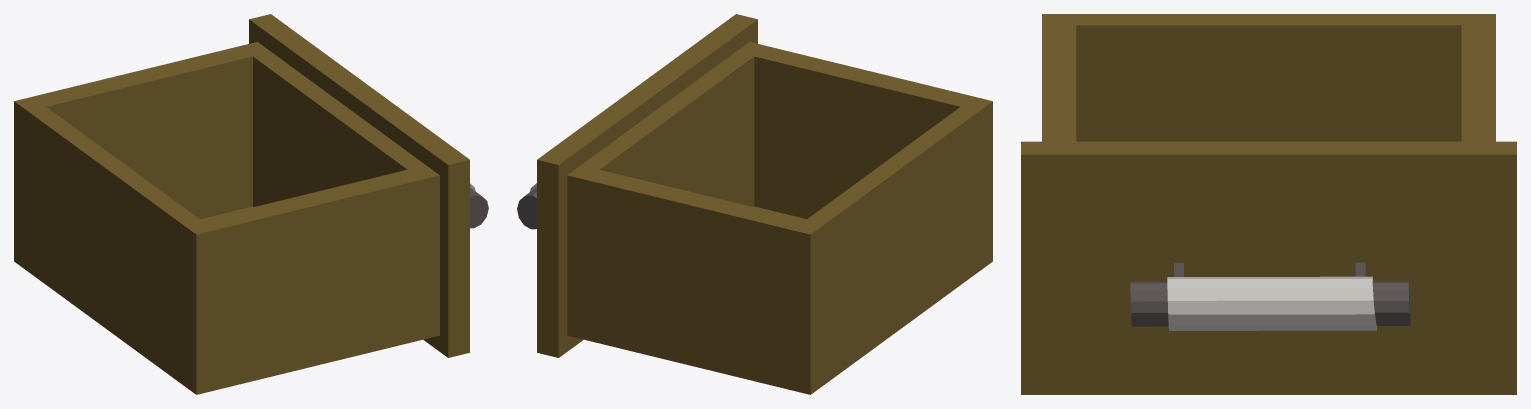
The model's file is Drawer.fbx.
3 renders of one model, left to right at view 1: azimuth 30°, elevation 25°; view 2: azimuth 150°, elevation 25°; view 3: azimuth 270°, elevation 25°, orthographic. The views are drawn at different scales.
Visible parts, largest first — view 1: Drawer; view 2: Drawer; view 3: Drawer.
Part boxes in pixels (x1,y1,x2,y2): Drawer: [14, 14, 488, 394]; Drawer: [517, 14, 992, 394]; Drawer: [1021, 14, 1516, 394].
Size of the model in its own units: 6.61 by 3.68 by 6.88.
